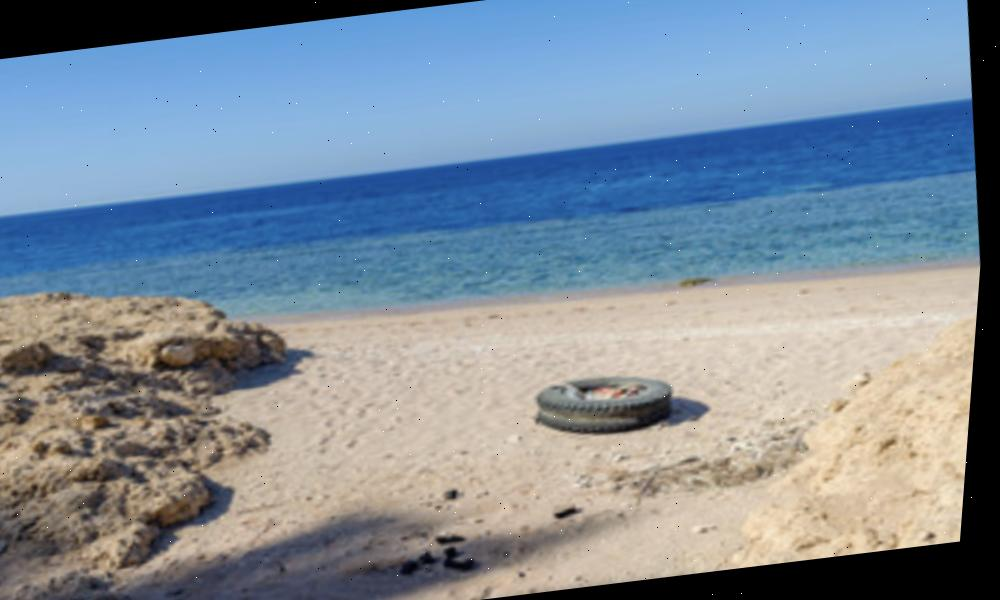tire: (532, 348, 689, 445)
